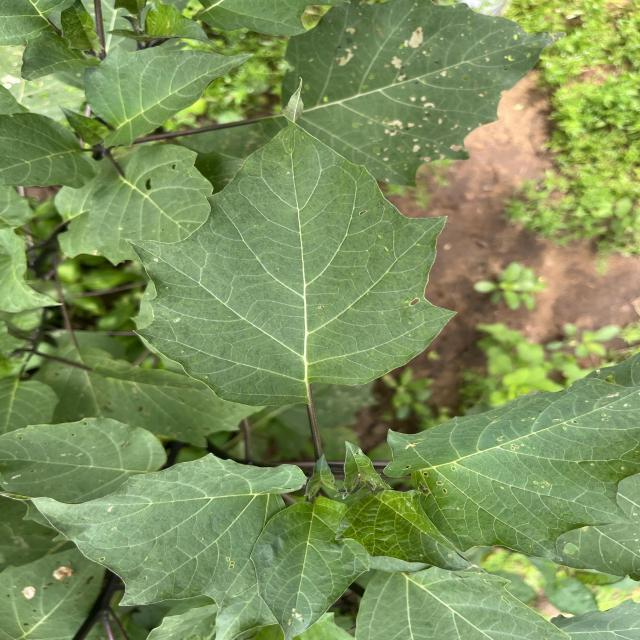Datura metal linn: (117, 73, 463, 412), (383, 349, 640, 564), (0, 451, 309, 610), (82, 42, 257, 153), (247, 494, 371, 640), (332, 486, 496, 580)
